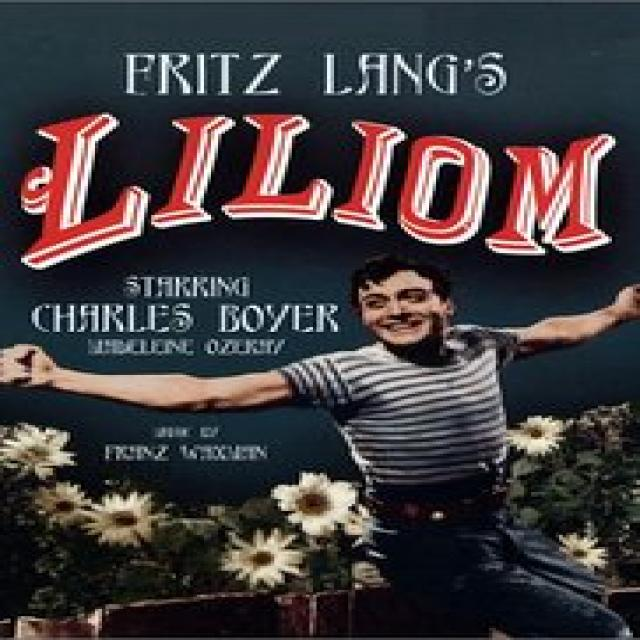movie-judul: (20, 112, 614, 274)
picture: (0, 258, 640, 638)
